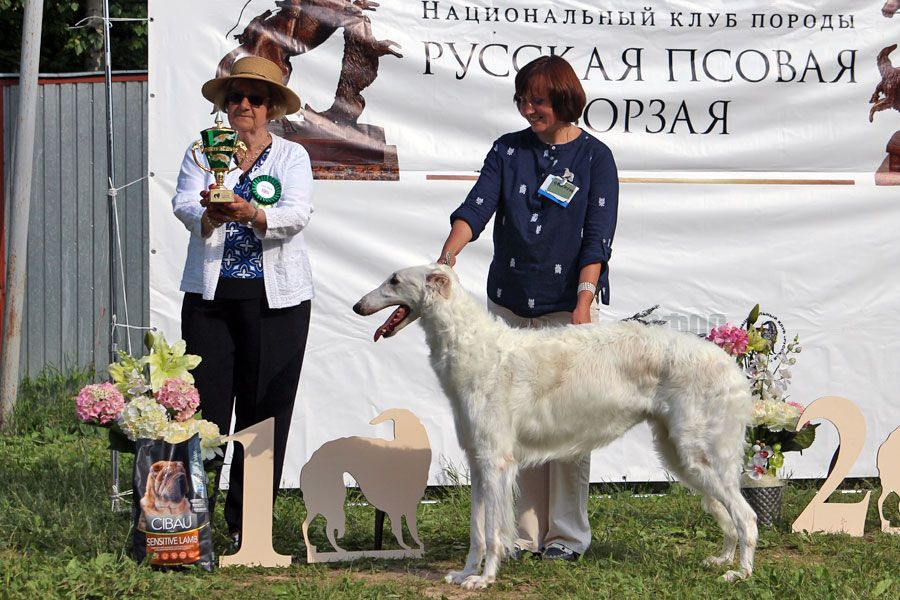borzoi: (353, 255, 764, 585)
